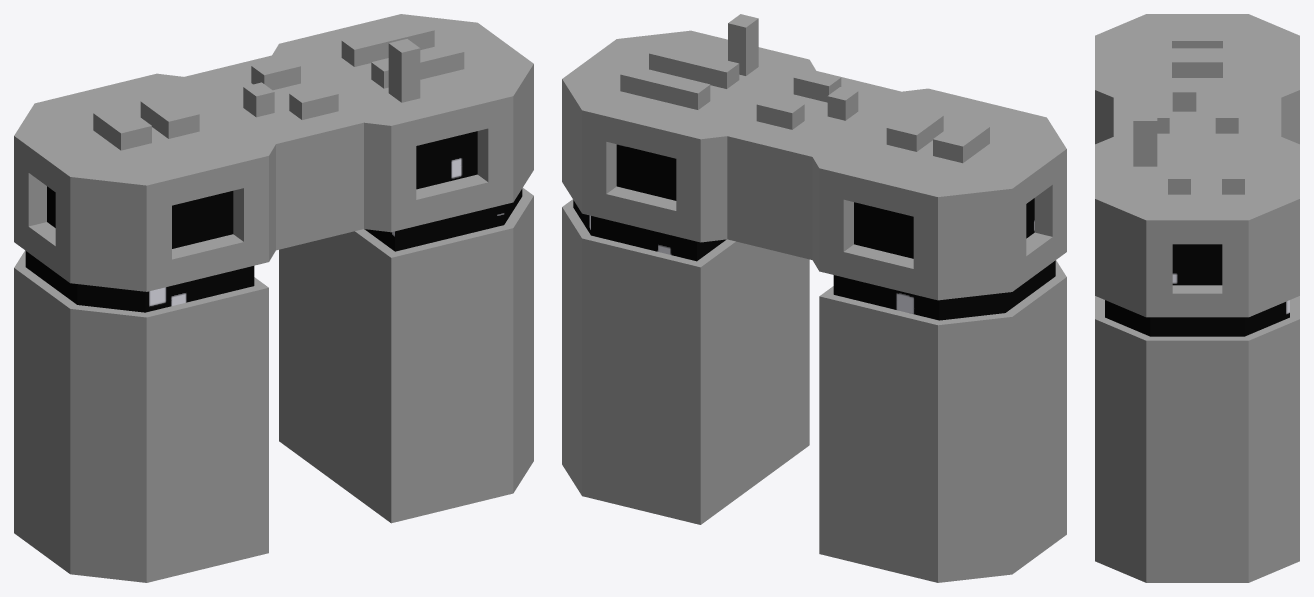
The model's file is Building01.fbx.
3 views of the same model, side by side, from view 1: azimuth 30°, elevation 25°; view 2: azimuth 150°, elevation 25°; view 3: azimuth 270°, elevation 25° (orthographic). The views are drawn at different scales.
Parts seen in each view (by area): view 1: Building01; view 2: Building01; view 3: Building01.
Boxes of the visible parts, x1,y1,x2,y2 form: Building01: (14,14,533,582); Building01: (562,14,1066,582); Building01: (1095,14,1299,582).
Bounding box in the file's own units: 1 × 0.9221 × 0.4191.
Materials: 2 (1 with a texture image).
